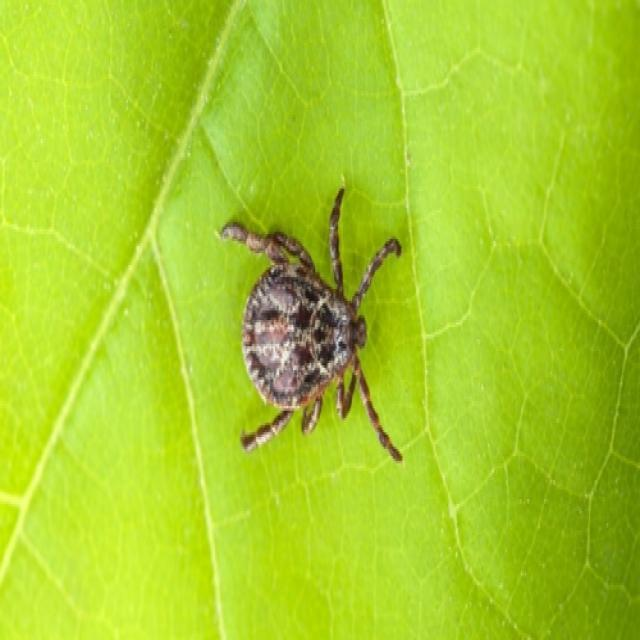Dermacentor Reticulatus-M: (219, 191, 403, 461)
